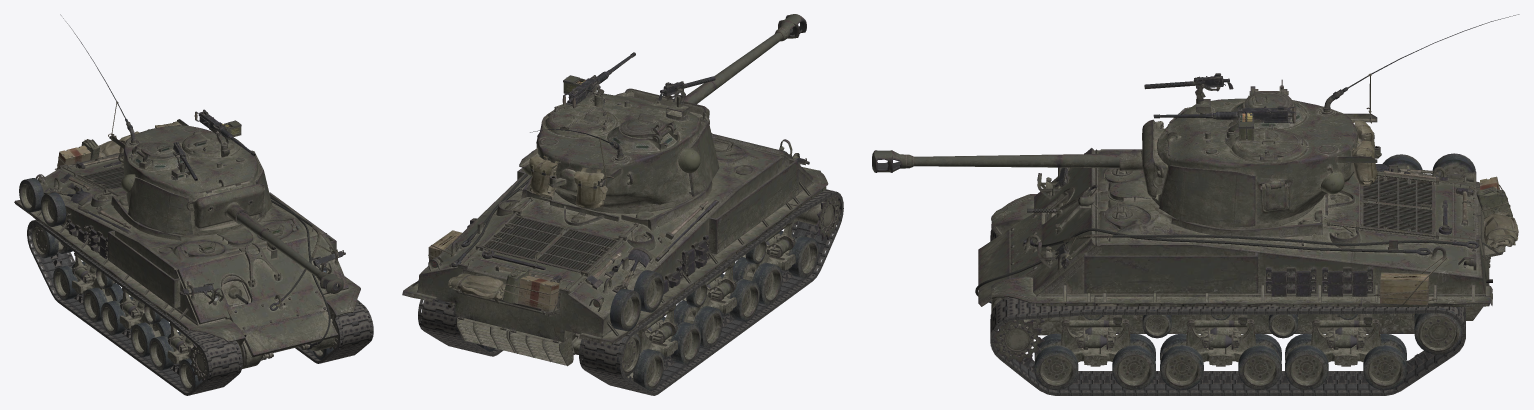
3 views of the same model, side by side, from view 1: azimuth 30°, elevation 25°; view 2: azimuth 150°, elevation 25°; view 3: azimuth 270°, elevation 25° (orthographic). The views are drawn at different scales.
Visible parts, largest first — view 1: Object_4, Object_7, Object_8, Object_2, Object_3, Object_6, roofMg, wheelL4, wheelL2, wheelLI, wheelL3, wheelL1 (+3 smaller); view 2: Object_4, Object_7, Object_8, roofMg, Object_6, Object_2, Object_3, wheelL5, wheelL3, wheelLS, wheelL6, wheelL1 (+3 smaller); view 3: Object_4, Object_7, Object_3, Object_5, Object_2, roofMg, wheelR4, wheelR3, wheelR1, wheelR2, wheelR5, wheelR6 (+4 smaller).
Boxes of the visible parts, x1,y1,x2,y2 form: Object_4: (14,139,360,368); Object_7: (109,110,272,235); Object_8: (27,219,242,395); Object_2: (186,183,343,293); Object_3: (295,299,373,363); Object_6: (72,252,196,361); roofMg: (60,14,212,159); wheelL4: (130,318,170,356); wheelL2: (83,283,123,321); wheelLI: (31,223,72,258); wheelL3: (101,296,134,335); wheelL1: (53,261,87,300); Object_4: (402,133,828,366); Object_7: (519,52,719,213); Object_8: (579,189,843,395); roofMg: (522,95,665,179); Object_6: (636,219,795,354); Object_2: (615,14,806,124); Object_3: (418,299,503,356); wheelL5: (732,257,782,305); wheelL3: (674,300,723,348); wheelLS: (791,190,840,240); wheelL6: (777,231,818,278); wheelL1: (627,349,664,391); Object_4: (975,148,1518,366); Object_7: (1144,73,1381,228); Object_3: (990,297,1465,395); Object_5: (1060,314,1381,362); Object_2: (872,119,1164,197); roofMg: (1289,14,1519,164); wheelR4: (1160,333,1203,390); wheelR3: (1238,333,1281,390); wheelR1: (1363,333,1406,390); wheelR2: (1285,333,1328,390); wheelR5: (1112,333,1155,390); wheelR6: (1034,333,1078,390).
Size of the model in its own units: 3.09 by 3.98 by 7.52.
5 materials, 5 textured.
